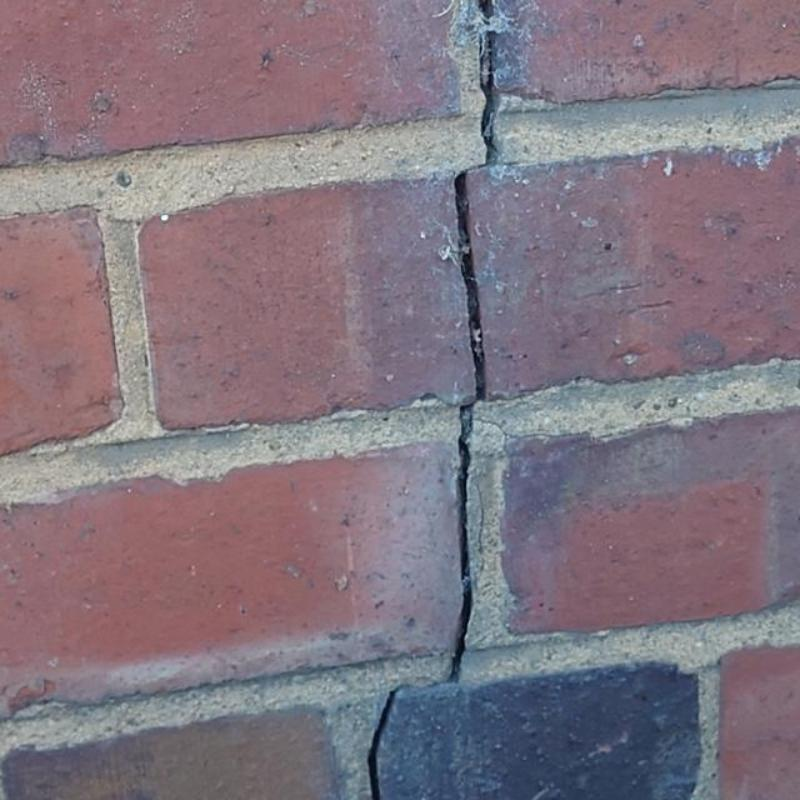pothole: (445, 402, 473, 684), (455, 173, 486, 400), (470, 0, 506, 164), (367, 689, 398, 799), (472, 418, 588, 439), (472, 480, 485, 585), (395, 680, 446, 689), (460, 162, 490, 172)
